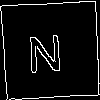N: (25, 24, 64, 73)
